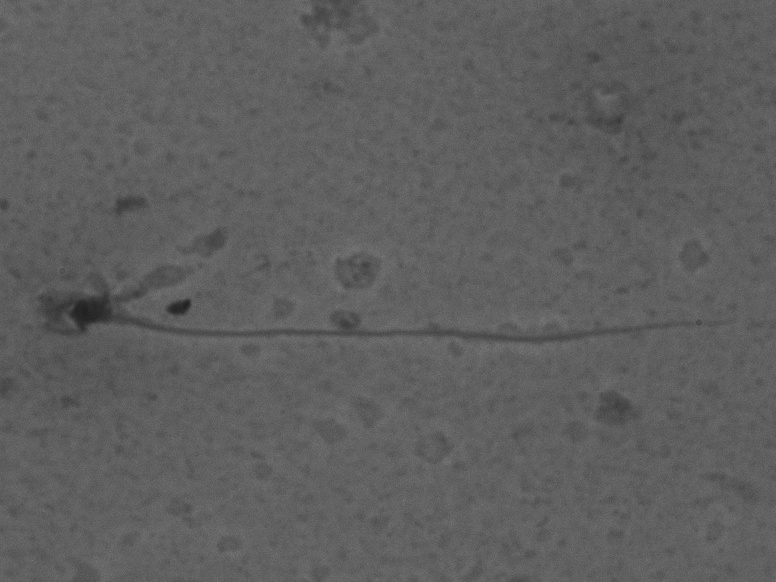Abnormal: (51, 252, 723, 414)
